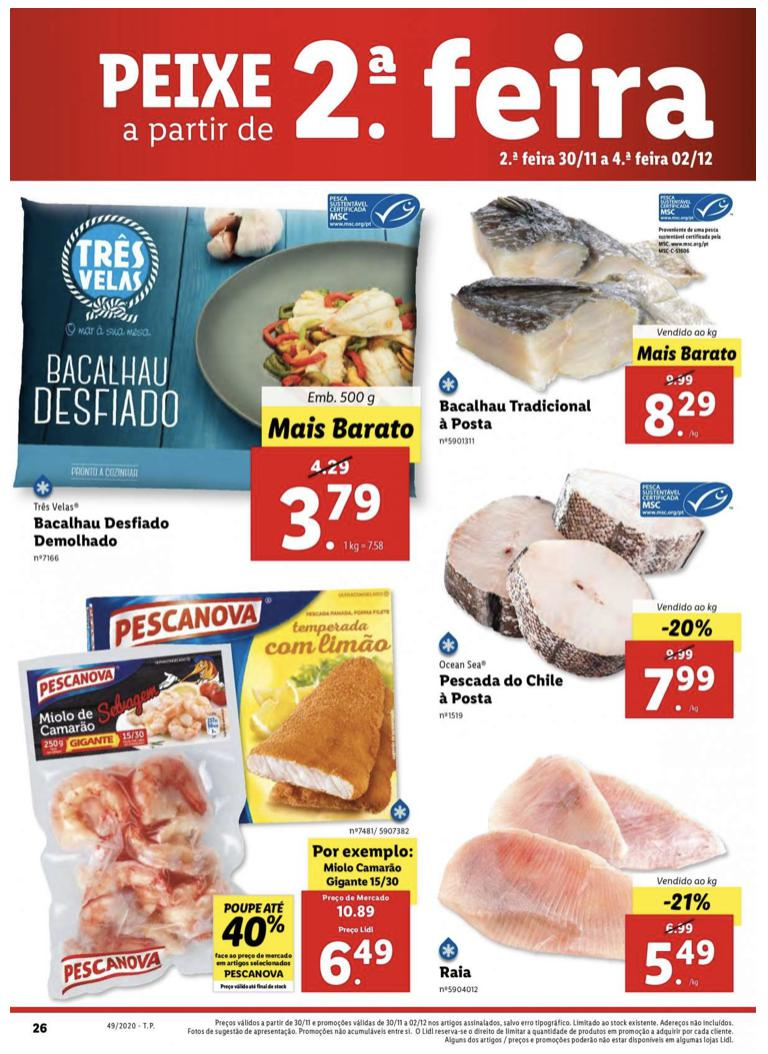name: (437, 394, 602, 432), (29, 513, 174, 550), (437, 670, 568, 709), (642, 388, 719, 445), (435, 963, 473, 984)
price: (274, 480, 397, 559), (638, 663, 720, 718), (641, 935, 720, 991), (317, 935, 395, 991)
product: (16, 585, 416, 1001), (10, 192, 432, 571), (424, 188, 747, 453), (429, 740, 751, 994), (430, 470, 754, 719)
promotion: (220, 914, 290, 952), (655, 615, 717, 641), (659, 889, 712, 915)
